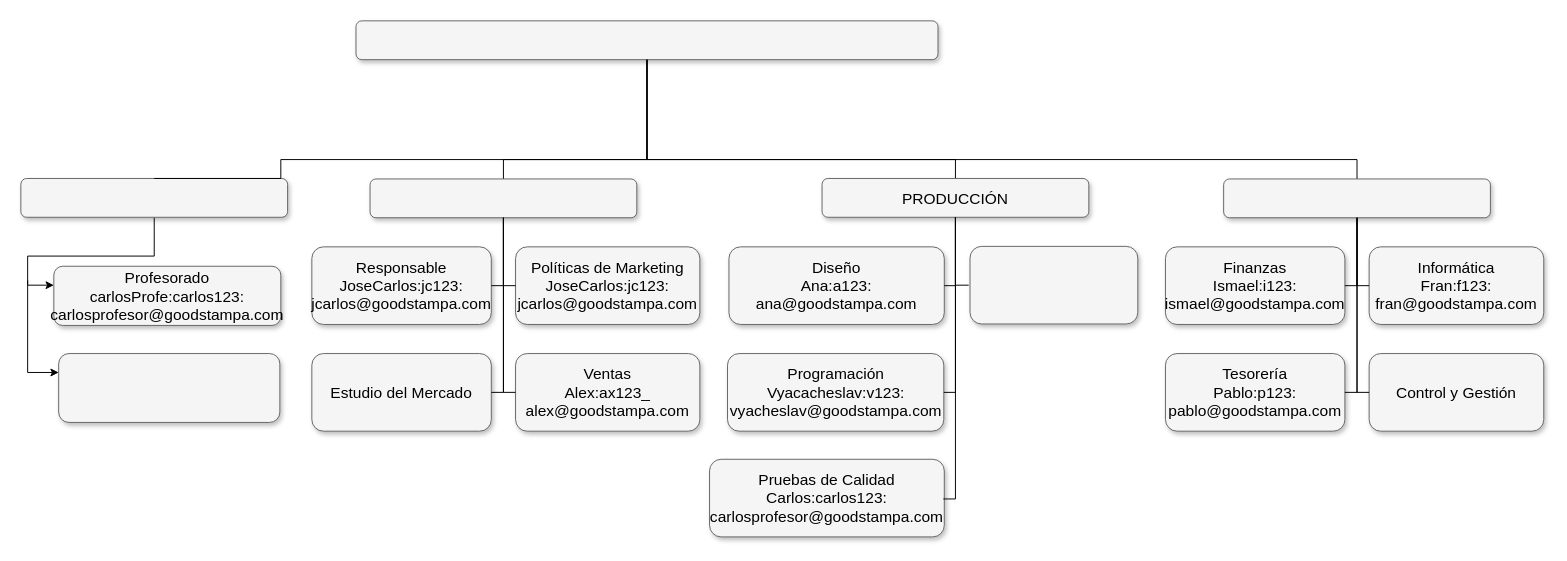
The diagram is 1567 pixels wide and 561 high, and some of its shapes have lost their labels. Each missing label, with the centre of its shape:
ADMINISTRACIÓN: the point at 1357,199
CEO Vyacheslav:v123:administrador: the point at 647,41
Logica Ana:a123: ana@goodstampa.com: the point at 1054,286
MARKETING: the point at 504,199
RRHH: the point at 154,199
V. Shylyayev Vyacheslav:v123: vyacheslav@goodstampa.com: the point at 170,389
